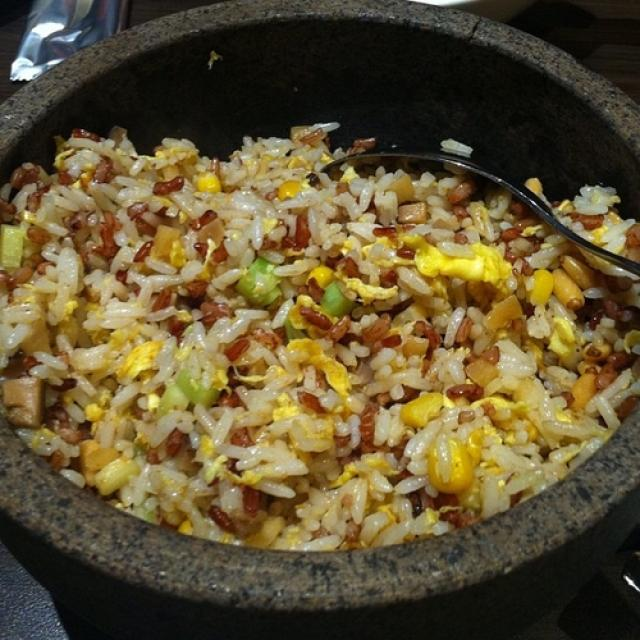米饭主食: (27, 37, 616, 581)
